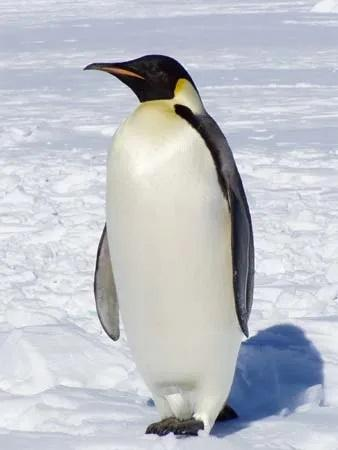emporer: (59, 32, 274, 445)
